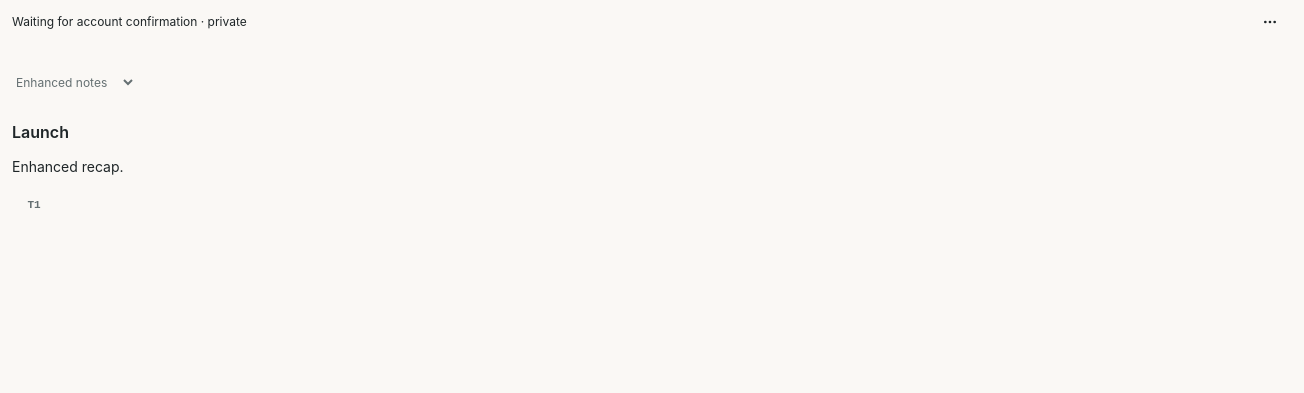
Test: notebook editor draft safety › switches between enhanced and original notes without changing the saved writing
Expected: the text "Enhanced recap." is shown, [12,158,124,175]
Select "Original notes" in the dropdown named "Notes version": (74, 82) [12,60,136,104]
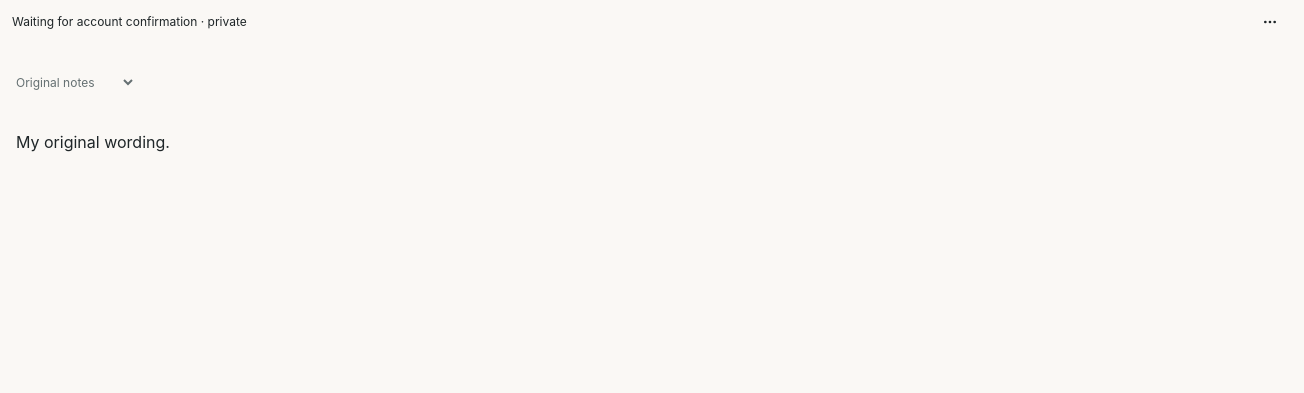
Expected: the text box named "My original notes" holds "My original wording."
